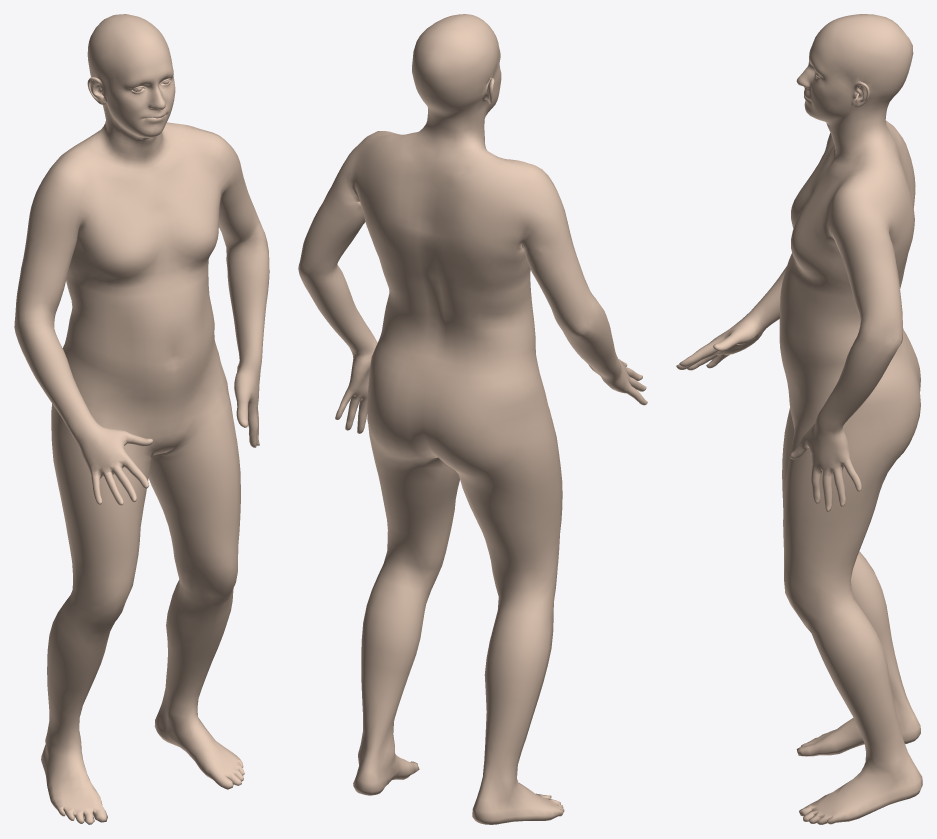
File: WORD-01495.glb
3 renders of one model, left to right at view 1: azimuth 30°, elevation 25°; view 2: azimuth 150°, elevation 25°; view 3: azimuth 270°, elevation 25°, orthographic. The views are drawn at different scales.
Bounding box in the file's own units: 0.6213 × 1.72 × 0.5011.
